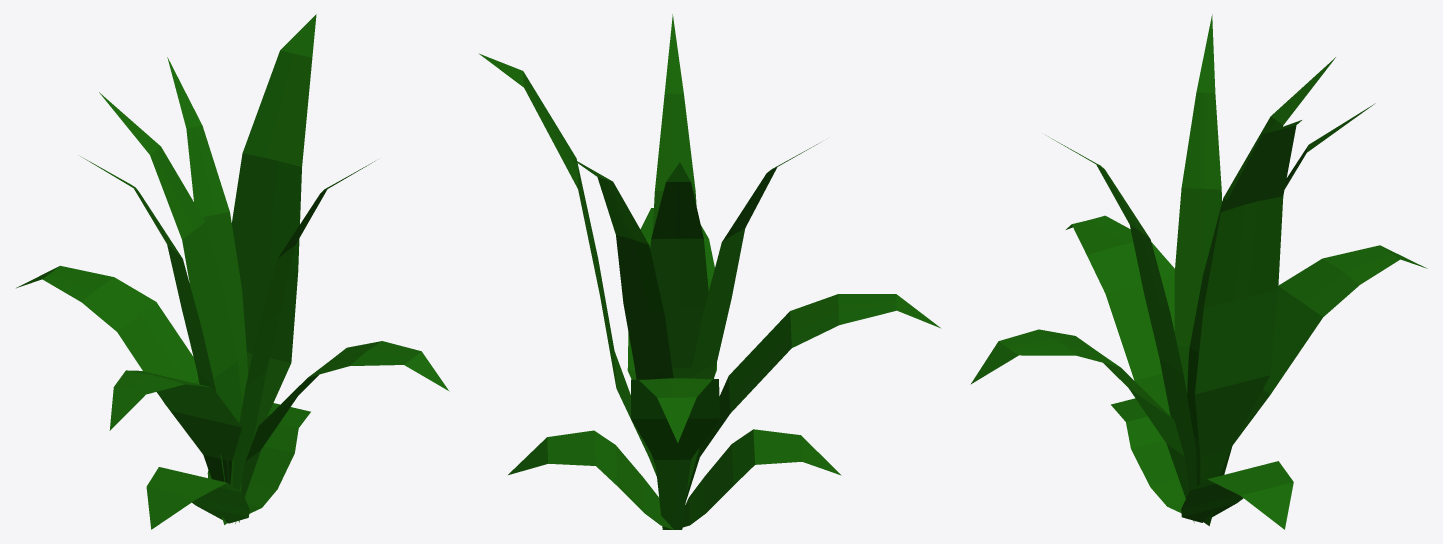
File: pasto modelo 1 XD.fbx
3 renders of one model, left to right at view 1: azimuth 30°, elevation 25°; view 2: azimuth 150°, elevation 25°; view 3: azimuth 270°, elevation 25°, orthographic. The views are drawn at different scales.
Parts seen in each view (by area): view 1: pasto; view 2: pasto; view 3: pasto.
Part boxes in pixels (x1,y1,x2,y2): pasto: [16, 14, 449, 529]; pasto: [479, 14, 940, 529]; pasto: [970, 14, 1427, 529].
Bounding box in the file's own units: 47.99 × 63.84 × 55.97.
